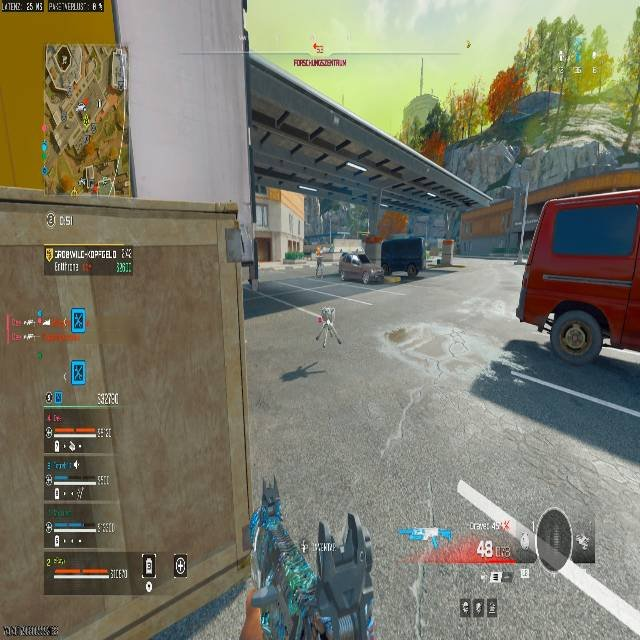player: (313, 247, 326, 279)
